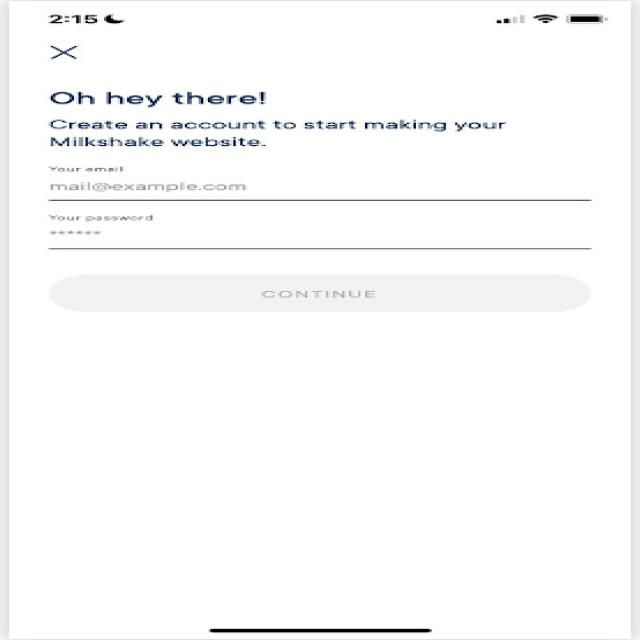button: (29, 267, 600, 322)
icon button: (32, 38, 98, 66)
input: (24, 161, 597, 209), (26, 209, 602, 254)
text: (24, 81, 567, 157)
